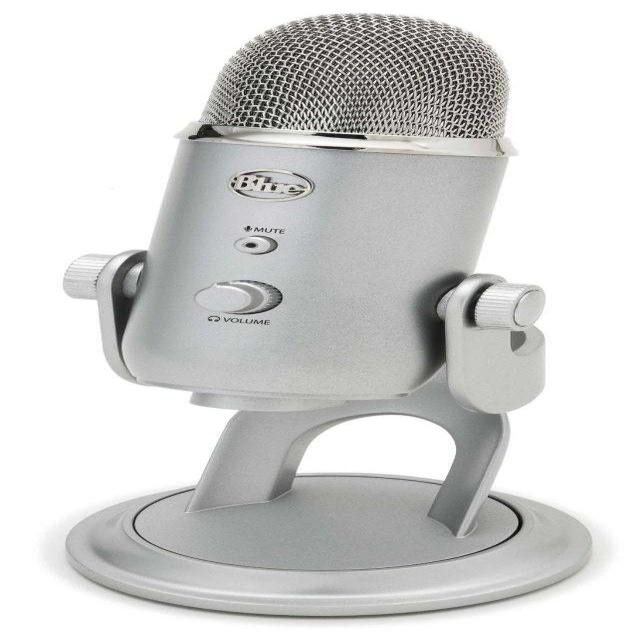microphone: (53, 18, 581, 614)
